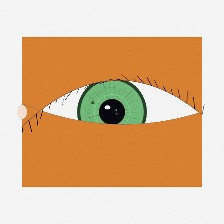pinguecula_lesion: (27, 98, 64, 128)
